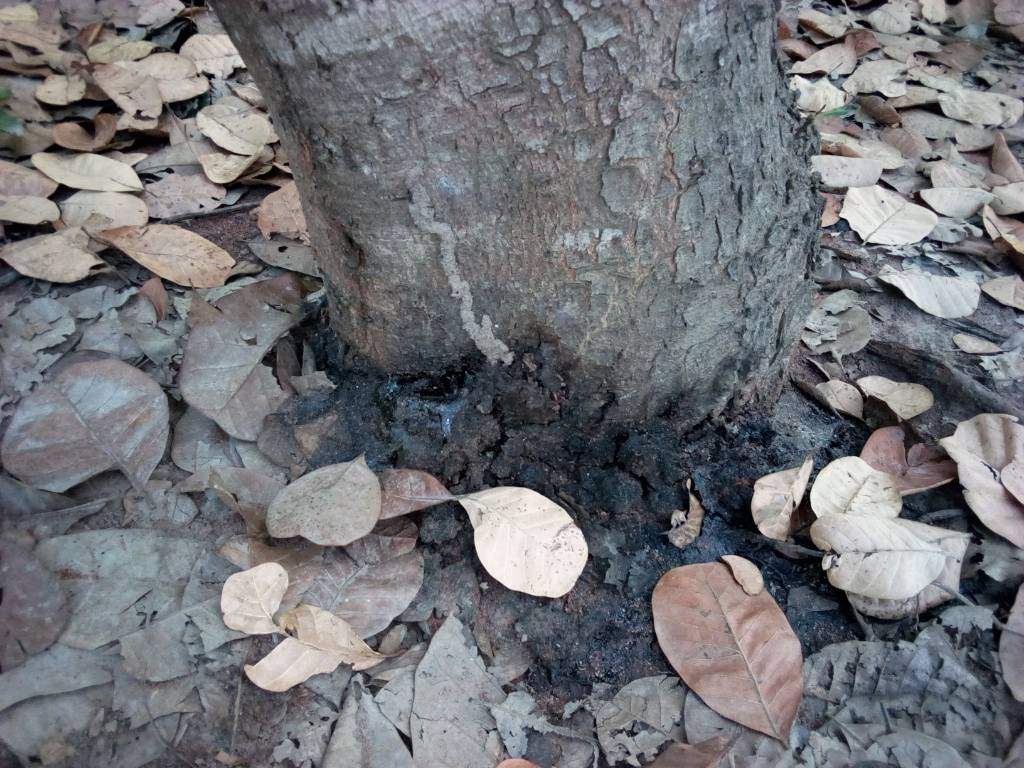Gommose: (380, 341, 808, 512)
